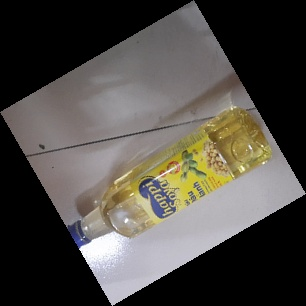Happy Soya: (63, 105, 274, 253)
